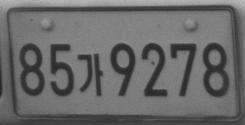2: (141, 42, 167, 97)
5: (49, 43, 75, 96)
7: (169, 42, 196, 97)
8: (201, 41, 229, 97), (18, 42, 45, 96)
9: (109, 41, 135, 96)
가: (77, 53, 103, 96)
